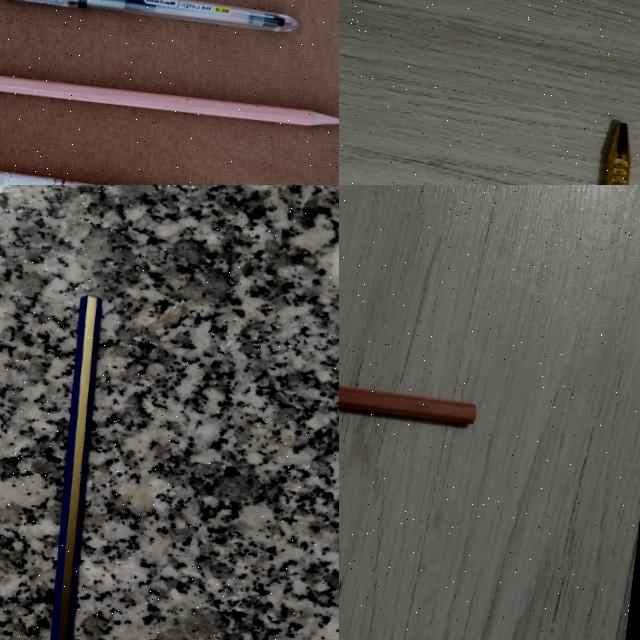pen: (0, 0, 284, 34)
pencil: (0, 56, 291, 128), (51, 296, 102, 639), (339, 387, 475, 424)
signature pen: (0, 154, 245, 185), (606, 124, 630, 184)
